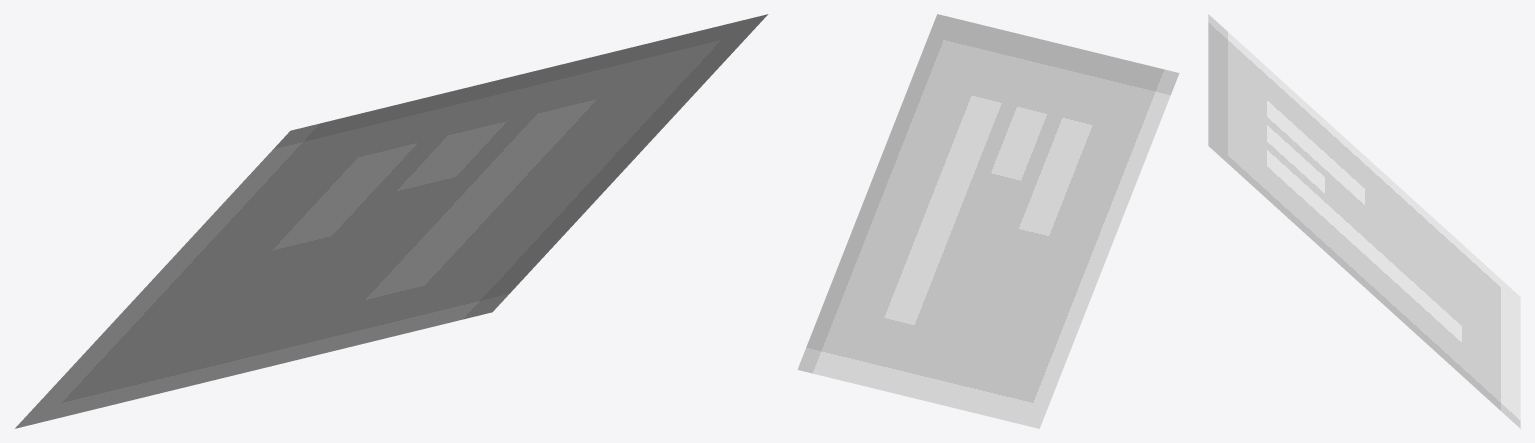
The model's file is block_template_rail_raised_sw.gltf.
The picture shows the model from 3 angles, left to right: view 1: azimuth 30°, elevation 25°; view 2: azimuth 150°, elevation 25°; view 3: azimuth 270°, elevation 25°; orthographic projection. The views are drawn at different scales.
Parts seen in each view (by area): view 1: cube; view 2: cube; view 3: cube.
Part boxes in pixels (box(x1,y1,x2,y2)): cube: box(15, 14, 768, 428); cube: box(797, 14, 1179, 428); cube: box(1208, 14, 1520, 428).
Size of the model in its own units: 1 by 1 by 1.
Materials: 1 (1 with a texture image).
